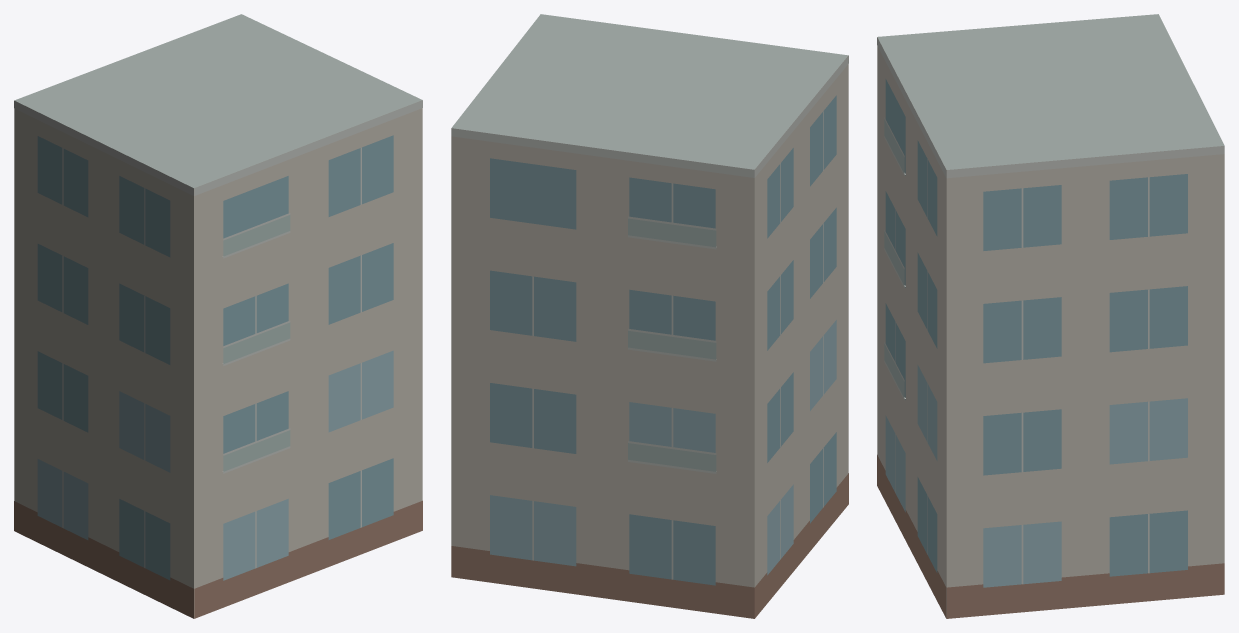
Rendered from survey-upis-32475575.glb.
3 renders of one model, left to right at view 1: azimuth 30°, elevation 25°; view 2: azimuth 150°, elevation 25°; view 3: azimuth 270°, elevation 25°, orthographic. The views are drawn at different scales.
Visible parts, largest first — view 1: survey-upis-32475575.tmp; view 2: survey-upis-32475575.tmp; view 3: survey-upis-32475575.tmp.
Boxes of the visible parts, x1,y1,x2,y2 form: survey-upis-32475575.tmp: (14,14,422,618); survey-upis-32475575.tmp: (451,14,848,618); survey-upis-32475575.tmp: (877,14,1224,618).
Bounding box in the file's own units: 9.93 × 13.3 × 9.35.
